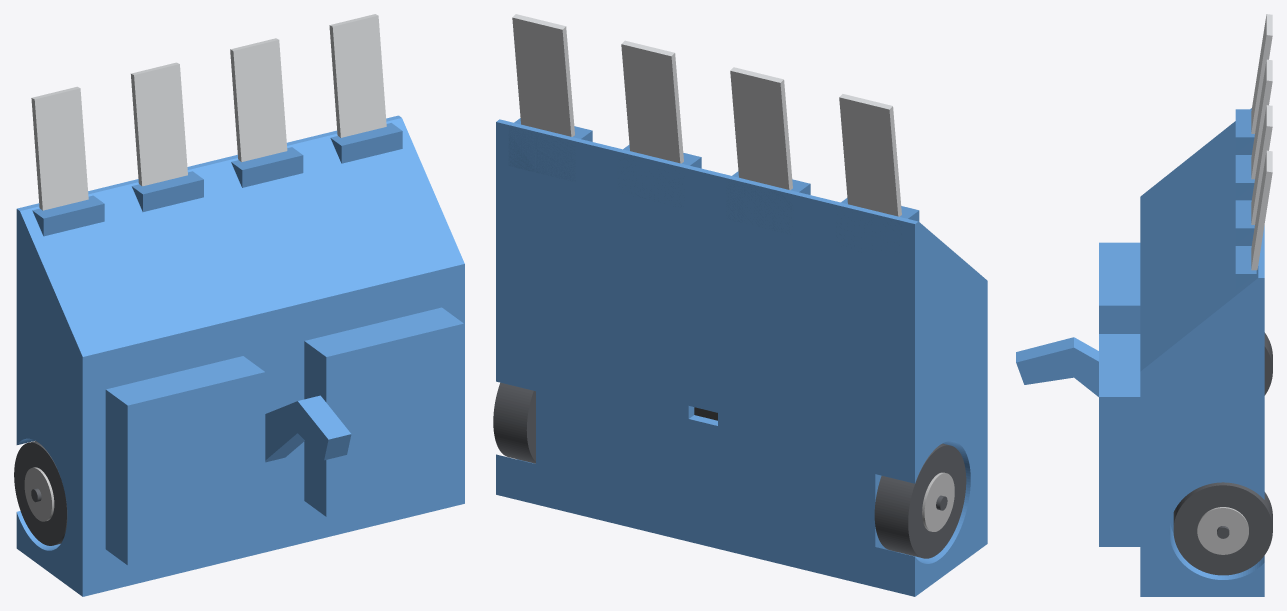
Rendered from shark_attack.glb.
3 renders of one model, left to right at view 1: azimuth 30°, elevation 25°; view 2: azimuth 150°, elevation 25°; view 3: azimuth 270°, elevation 25°, orthographic. The views are drawn at different scales.
Parts seen in each view (by area): view 1: chassis, hump_r, hump_l, fork_2, fork_3, fork_0, fork_1, fin, wheel_r0, dt_mount_fork_2, dt_mount_fork_0, dt_mount_fork_3 (+2 smaller); view 2: chassis, wheel_r0, fork_1, fork_2, fork_3, fork_0, wheel_l0, dt_mount_fork_3, dt_hub_wheel_r0, dt_mount_fork_1; view 3: chassis, hump_l, wheel_l0, hump_r, fin, dt_hub_wheel_l0, fork_3, fork_1, fork_0, fork_2, dt_mount_fork_3, dt_mount_fork_0 (+3 smaller).
Part boxes in pixels (x1,y1,x2,y2): chassis: [16, 115, 464, 596]; hump_r: [105, 356, 265, 565]; hump_l: [304, 307, 463, 516]; fork_2: [230, 38, 287, 162]; fork_3: [329, 14, 386, 137]; fork_0: [31, 86, 88, 210]; fork_1: [131, 62, 187, 186]; fin: [265, 395, 351, 462]; wheel_r0: [14, 441, 67, 545]; dt_mount_fork_2: [231, 147, 303, 187]; dt_mount_fork_0: [32, 195, 104, 236]; dt_mount_fork_3: [330, 123, 402, 163]; chassis: [496, 119, 987, 596]; wheel_r0: [874, 443, 966, 558]; fork_1: [730, 67, 792, 190]; fork_2: [621, 40, 683, 163]; fork_3: [512, 14, 574, 136]; fork_0: [839, 94, 901, 216]; wheel_l0: [493, 382, 535, 463]; dt_mount_fork_3: [508, 118, 592, 181]; dt_hub_wheel_r0: [922, 472, 954, 531]; dt_mount_fork_1: [726, 171, 810, 234]; chassis: [1140, 108, 1264, 596]; hump_l: [1099, 334, 1140, 546]; wheel_l0: [1173, 482, 1272, 575]; hump_r: [1099, 242, 1140, 333]; fin: [1016, 337, 1098, 396]; dt_hub_wheel_l0: [1197, 507, 1248, 554]; fork_3: [1251, 150, 1272, 270]; fork_1: [1251, 59, 1272, 179]; fork_0: [1251, 14, 1272, 133]; fork_2: [1251, 105, 1272, 224]; dt_mount_fork_3: [1235, 246, 1256, 290]; dt_mount_fork_0: [1235, 109, 1254, 153].
Size of the model in its own units: 102 by 111 by 62.
